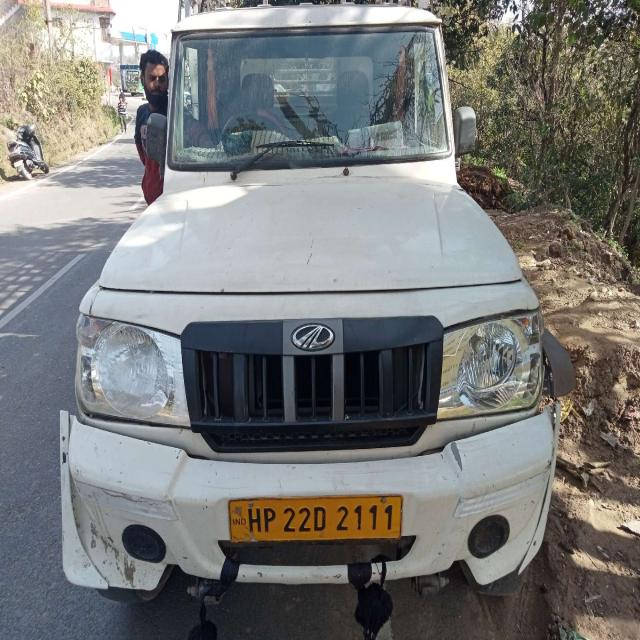light_vehicle: (71, 22, 555, 600)
